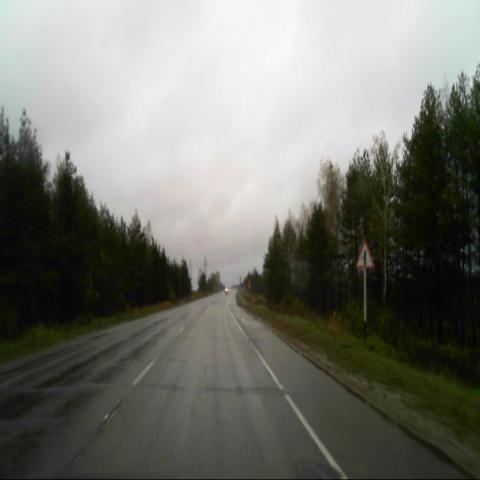2_3_3: (356, 242, 375, 270)
